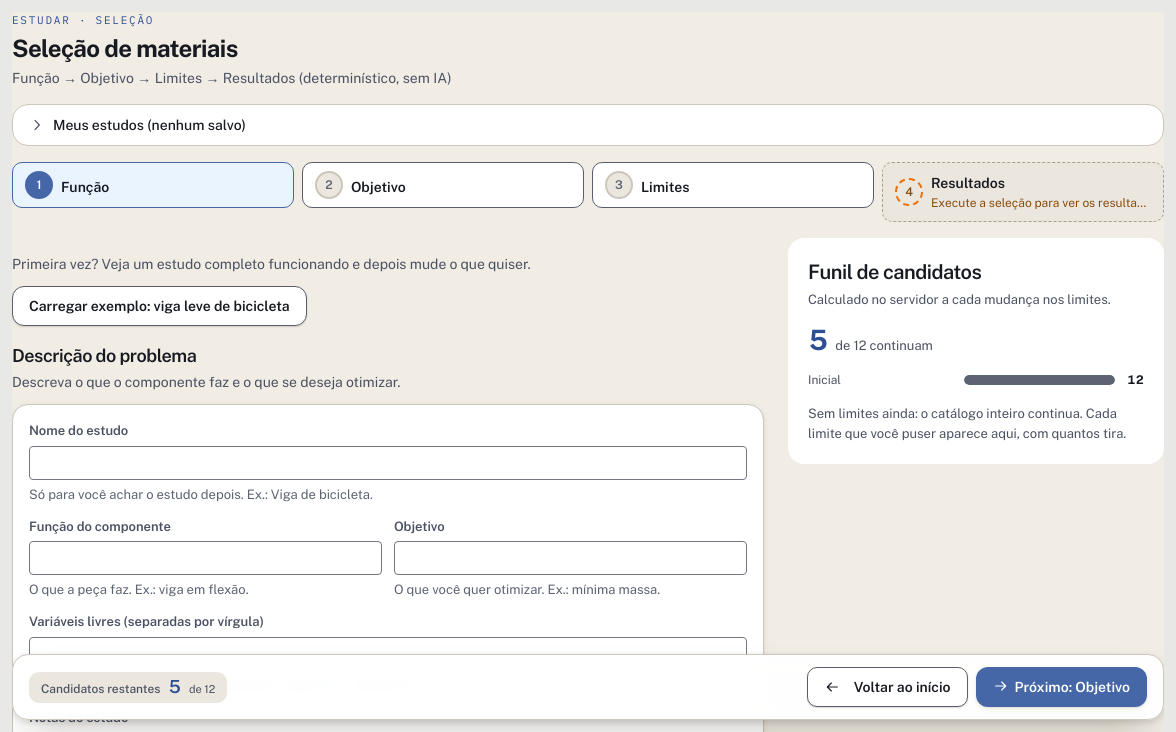
Scenario: navegação guiada (D-85) › summarizes what each step holds under its name
In the field labelled "Nome do estudo": {"x": 388, "y": 462} [29,446,747,480], type "Viga de bicicleta"
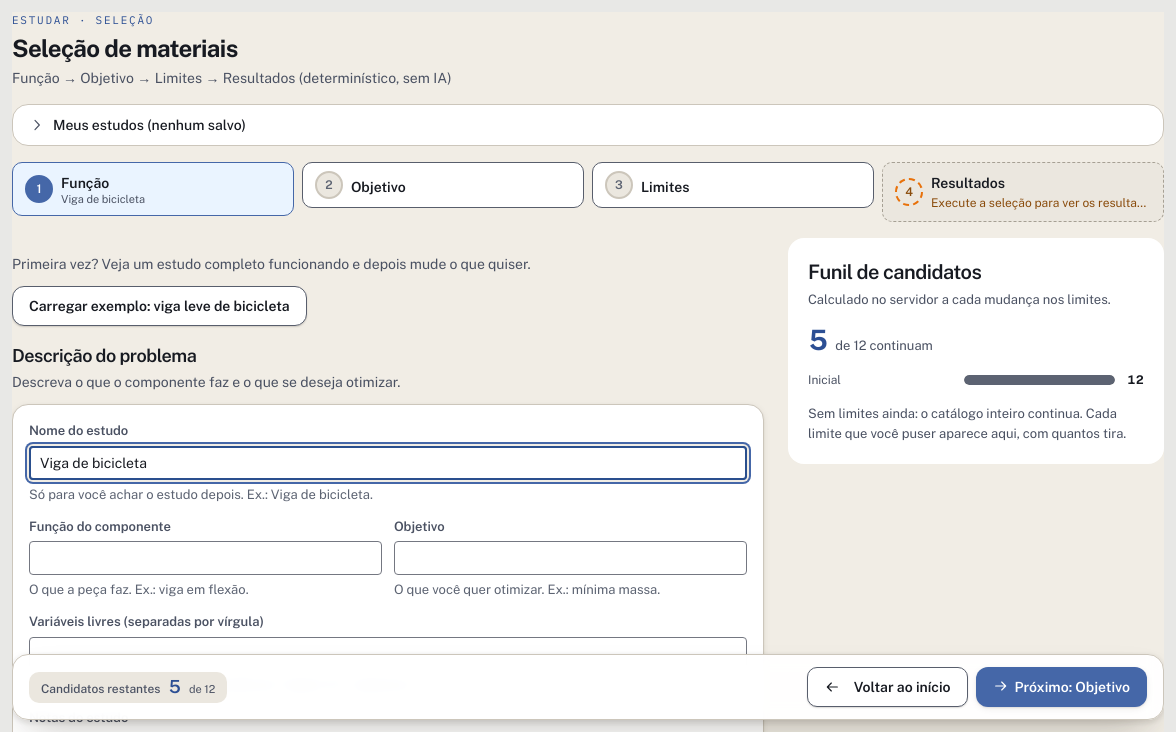
Now the button "1 Função Viga de bicicleta" is shown, box [12,162,294,216]
